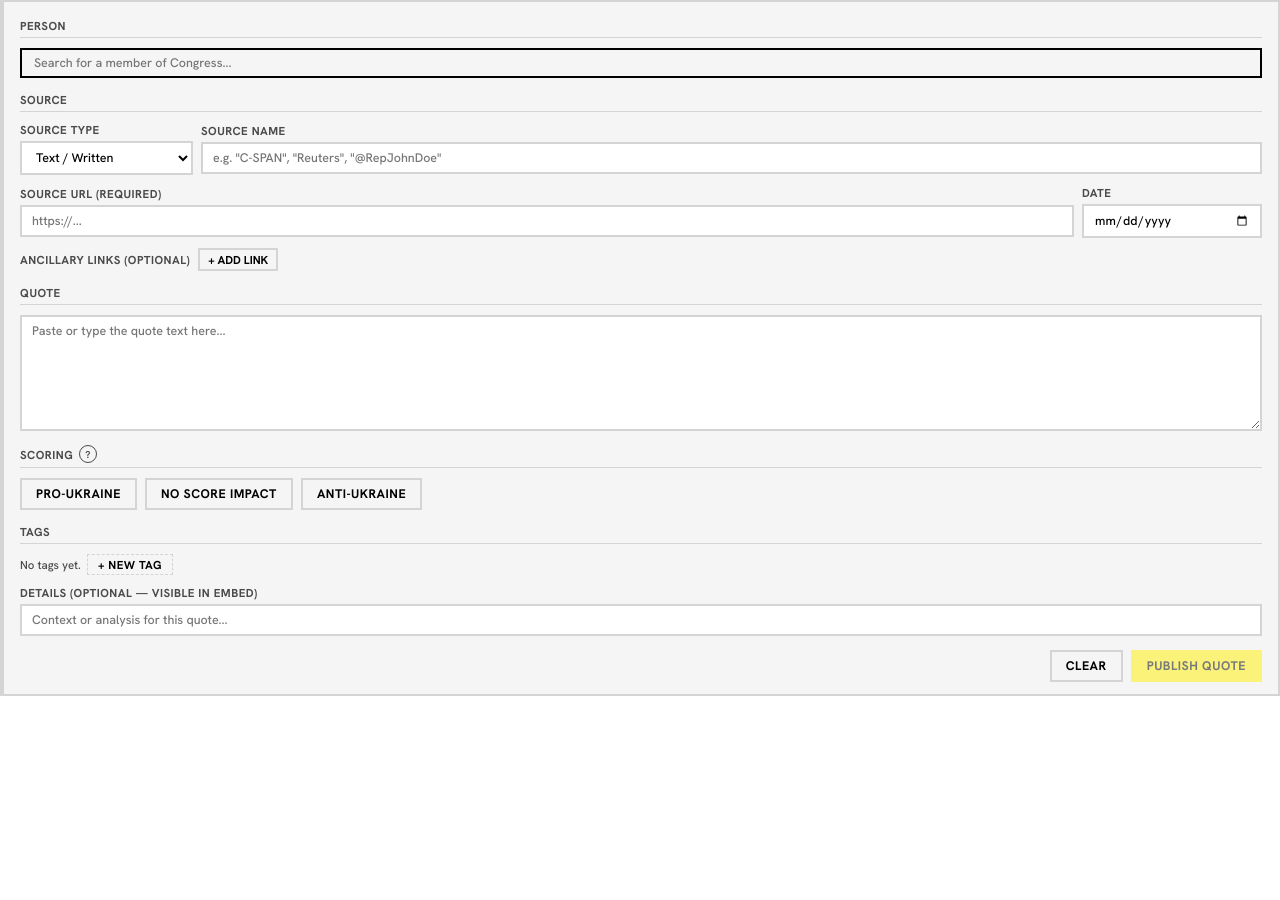
Test case: AddQuoteView — scoring state machine › Pro/Anti reveal the weight slider and "No score" hides it
Expected: the text "Scoring ?" is shown, [20,445,1262,468]
Step 1. Click the button "Pro-Ukraine" → (78, 494), box [20,478,137,510]
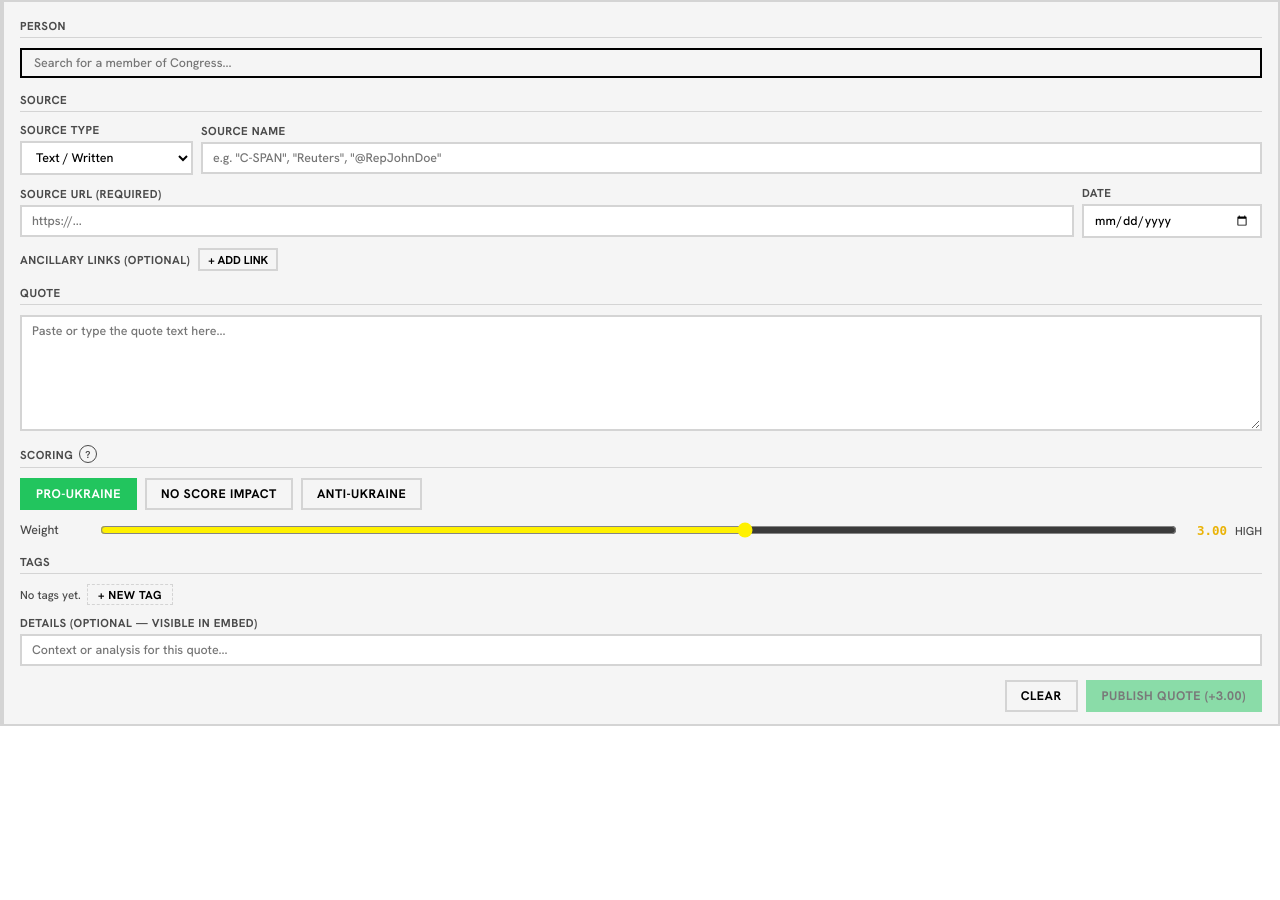
Result: the slider is shown at [100,522,1177,538]
Step 2. Click the button "No score impact" → (219, 494), box [145,478,293,510]
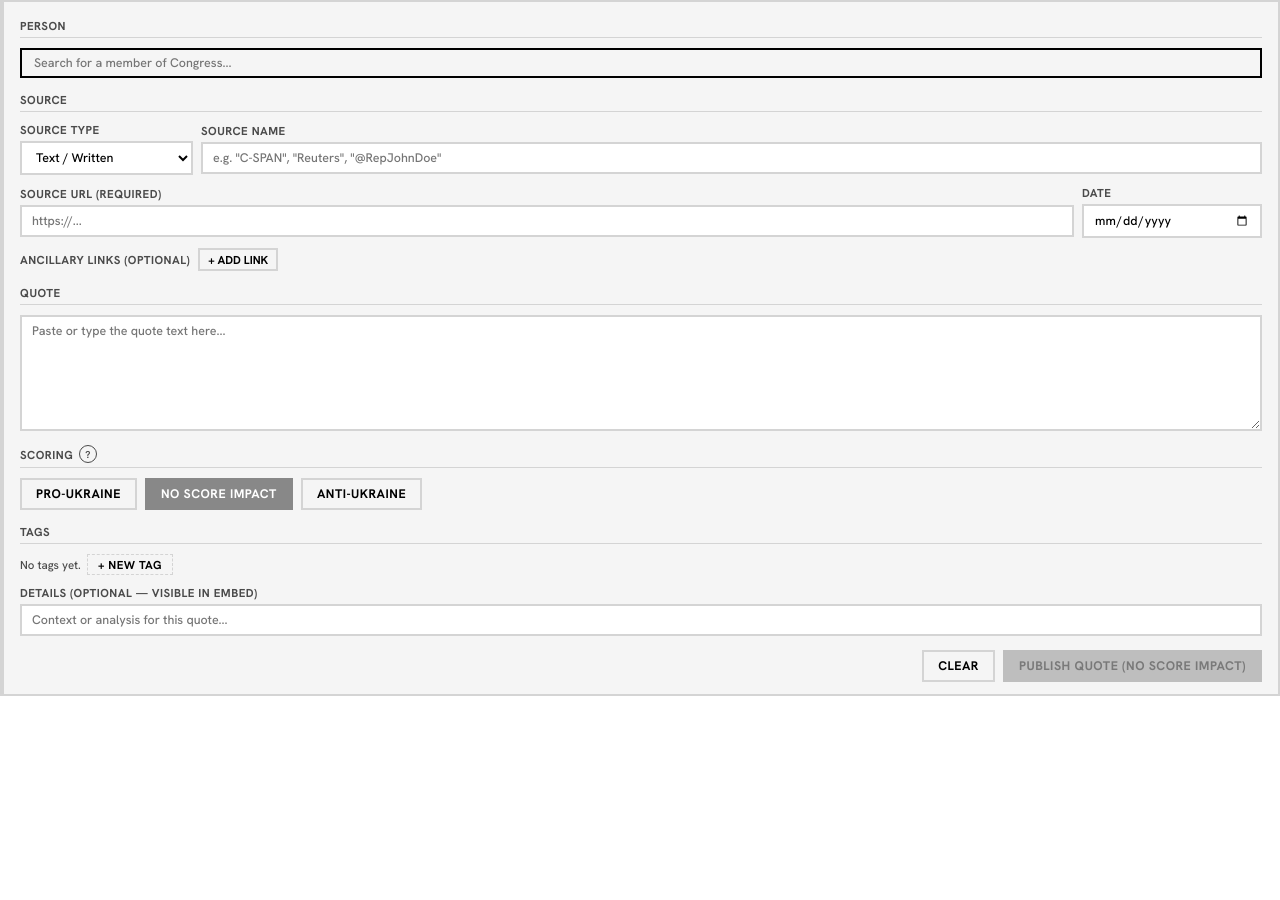
Result: the slider is gone
Step 3. Click the button "Anti-Ukraine" → (362, 494), box [301,478,422,510]
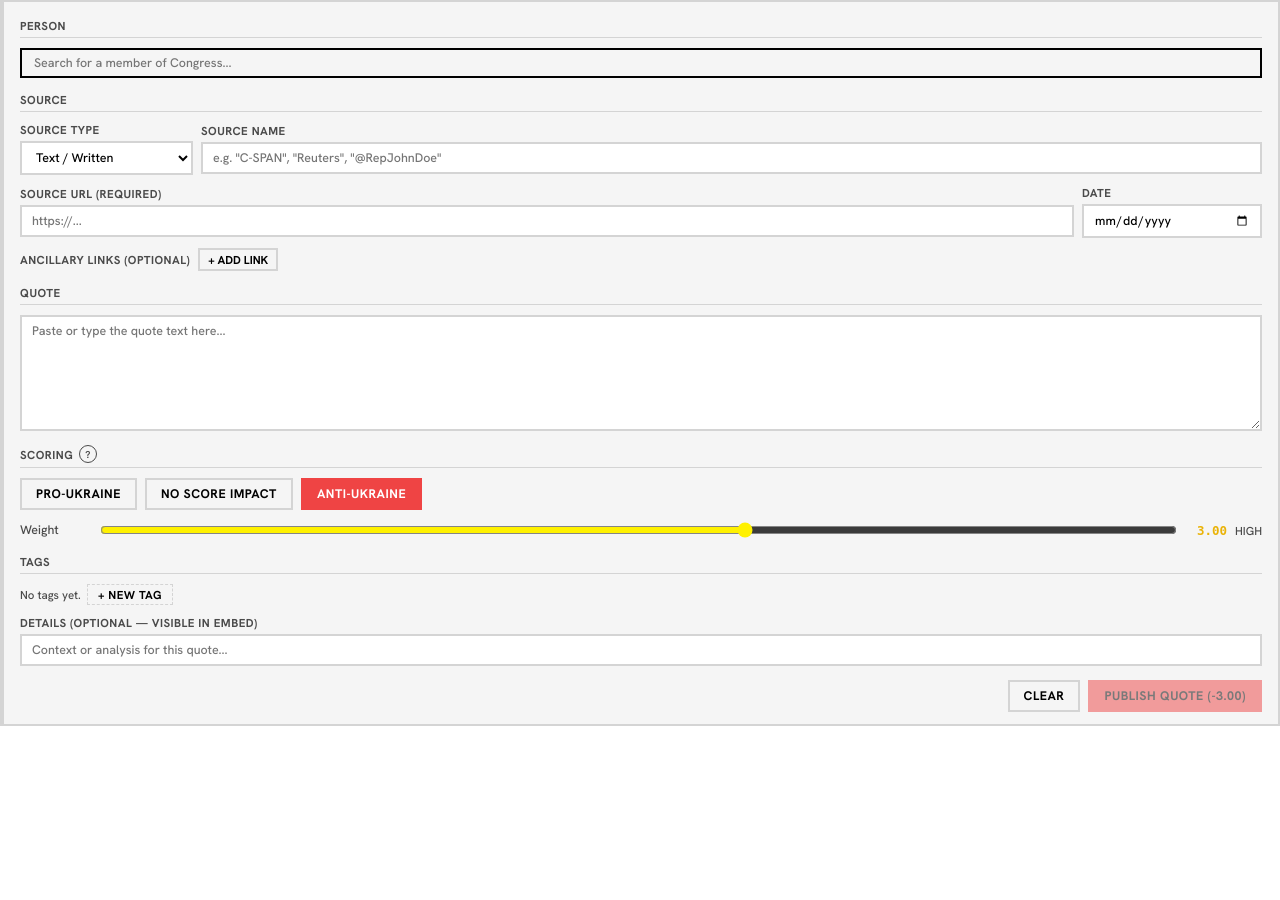
Result: the slider is shown at [100,522,1177,538]
